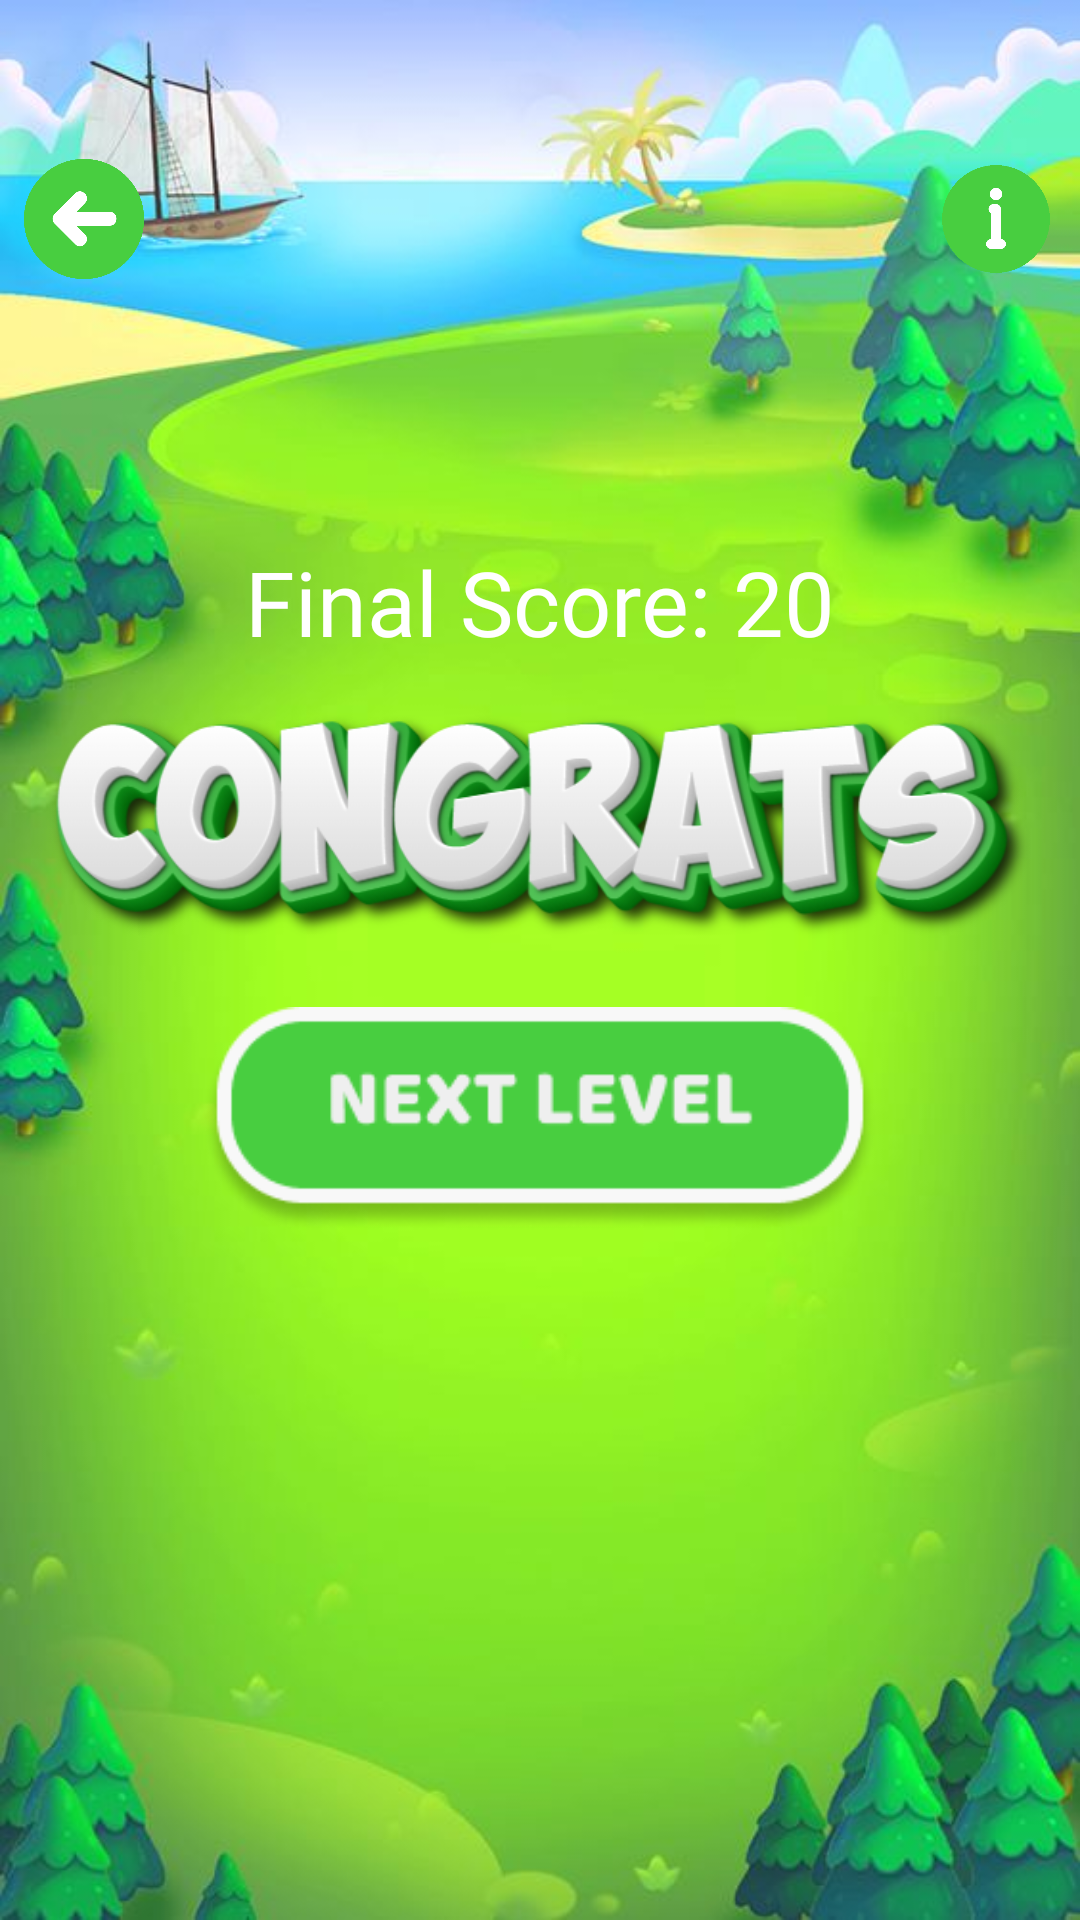

Icon click points for this 1080×1920 phone screenshot, format (x=x, y=y):
back: (x=84, y=219)
info: (x=996, y=219)
